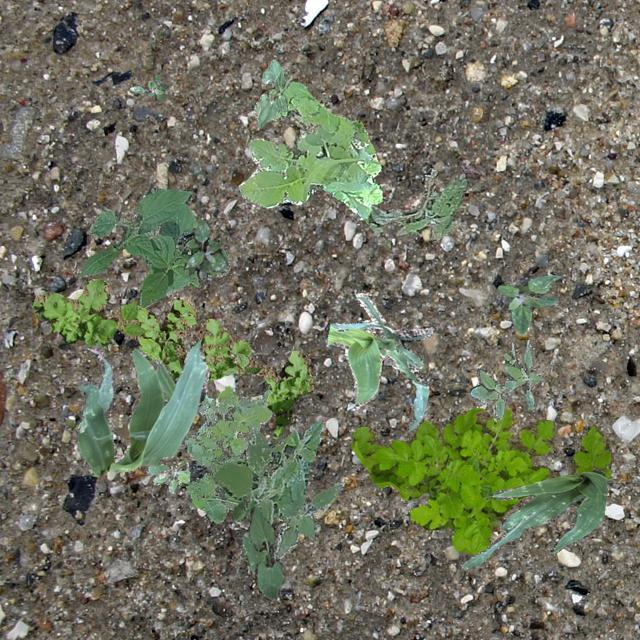crop: (78, 186, 228, 308), (76, 338, 208, 476), (458, 468, 606, 568), (326, 292, 432, 429), (248, 504, 282, 598), (256, 59, 290, 128)
weed: (30, 278, 312, 438), (350, 406, 610, 554), (235, 80, 382, 218), (146, 384, 272, 522), (212, 420, 322, 572), (362, 166, 468, 248), (466, 338, 540, 419), (272, 480, 344, 558), (496, 272, 560, 334), (182, 216, 228, 278), (152, 458, 188, 492), (128, 74, 166, 98)
